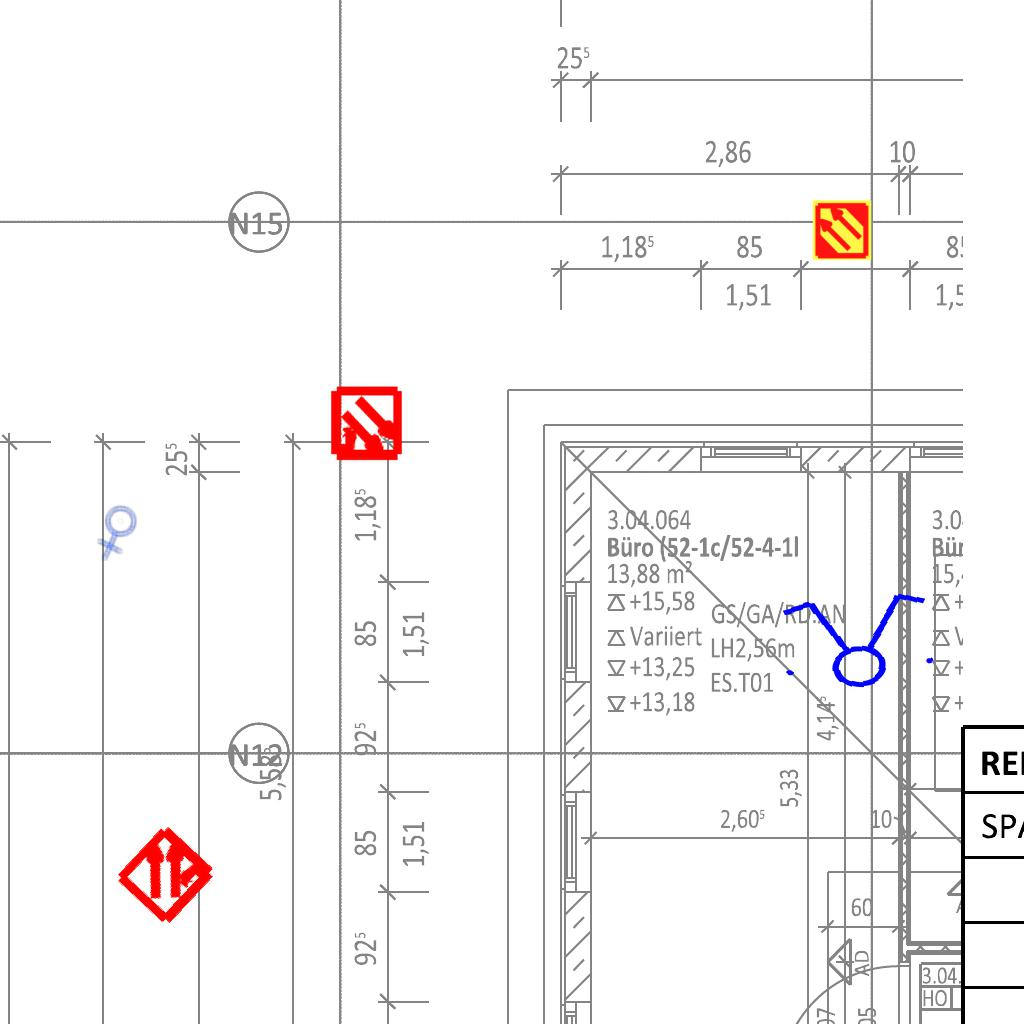ASR_Ansaugrauchmelder: (811, 199, 873, 261)
Elektroanschluss_allgemein_230V_Geraeteanschlussdose_230V: (86, 500, 151, 563)
OT_Multisensormelder_(Kombination_RMO_WMD): (87, 793, 248, 954), (310, 369, 423, 482)
Serienschalter: (768, 585, 944, 697)
